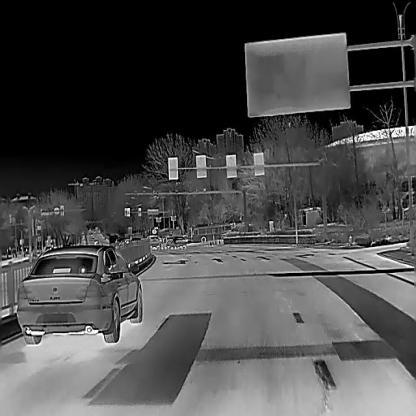car: (15, 243, 142, 343), (191, 223, 231, 242), (165, 234, 186, 249), (146, 233, 160, 250)
